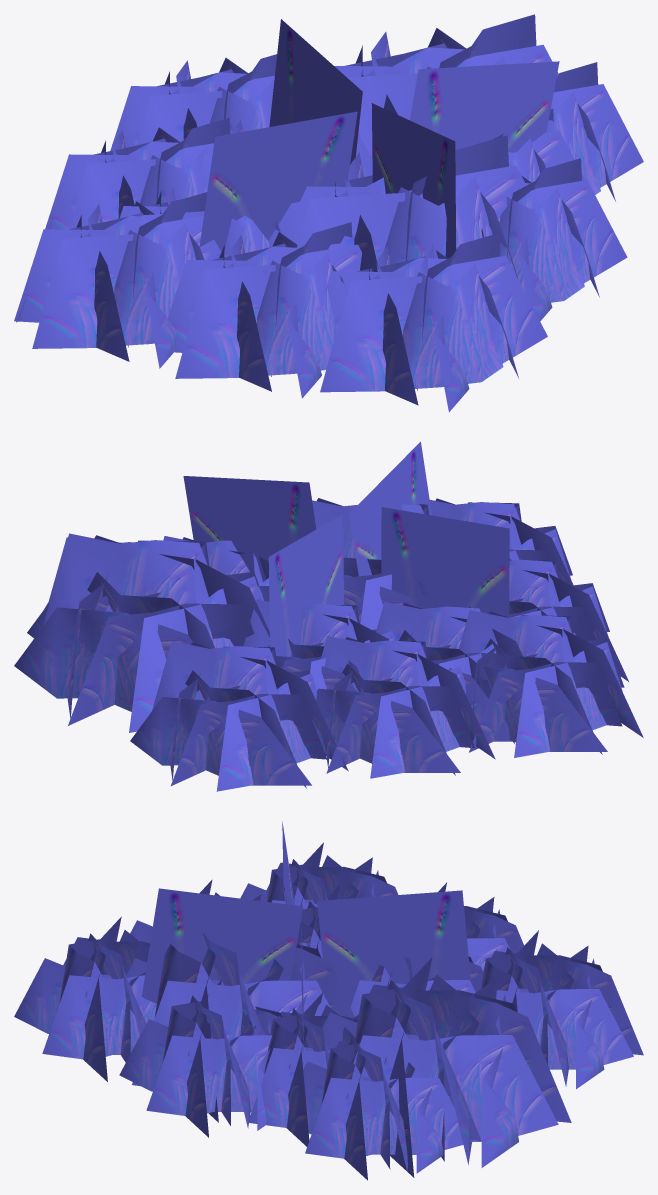
The model's file is GrassPlant05.fbx.
3 renders of one model, top to bottom at view 1: azimuth 30°, elevation 25°; view 2: azimuth 150°, elevation 25°; view 3: azimuth 270°, elevation 25°, orthographic. The views are drawn at different scales.
Parts seen in each view (by area): view 1: GrassPlant05_LOD0; view 2: GrassPlant05_LOD0; view 3: GrassPlant05_LOD0.
Boxes of the visible parts, x1=… form: GrassPlant05_LOD0: x1=14, y1=14, x2=643, y2=412; GrassPlant05_LOD0: x1=14, y1=441, x2=643, y2=791; GrassPlant05_LOD0: x1=14, y1=821, x2=643, y2=1180.
Size of what is drawn, in the model's own units: 263 by 76.41 by 253.
